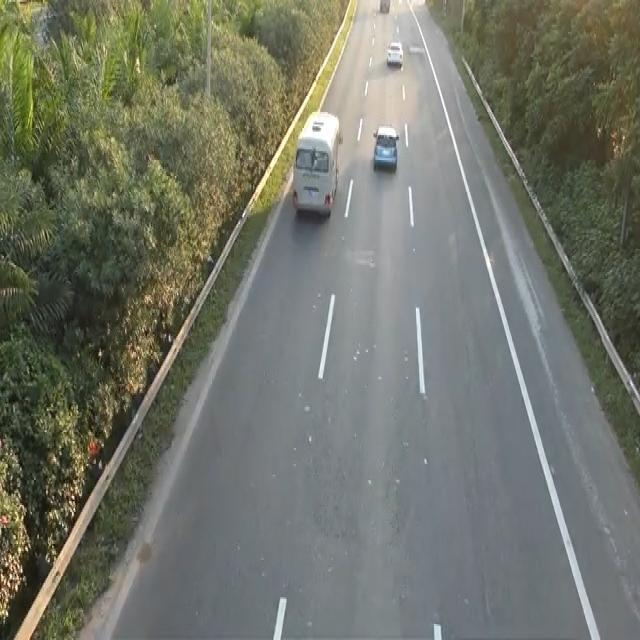bus: (371, 122, 399, 172), (385, 37, 403, 66)
jeep: (290, 107, 343, 220)
